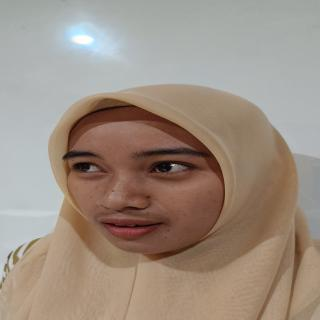Takut: (57, 97, 260, 261)
